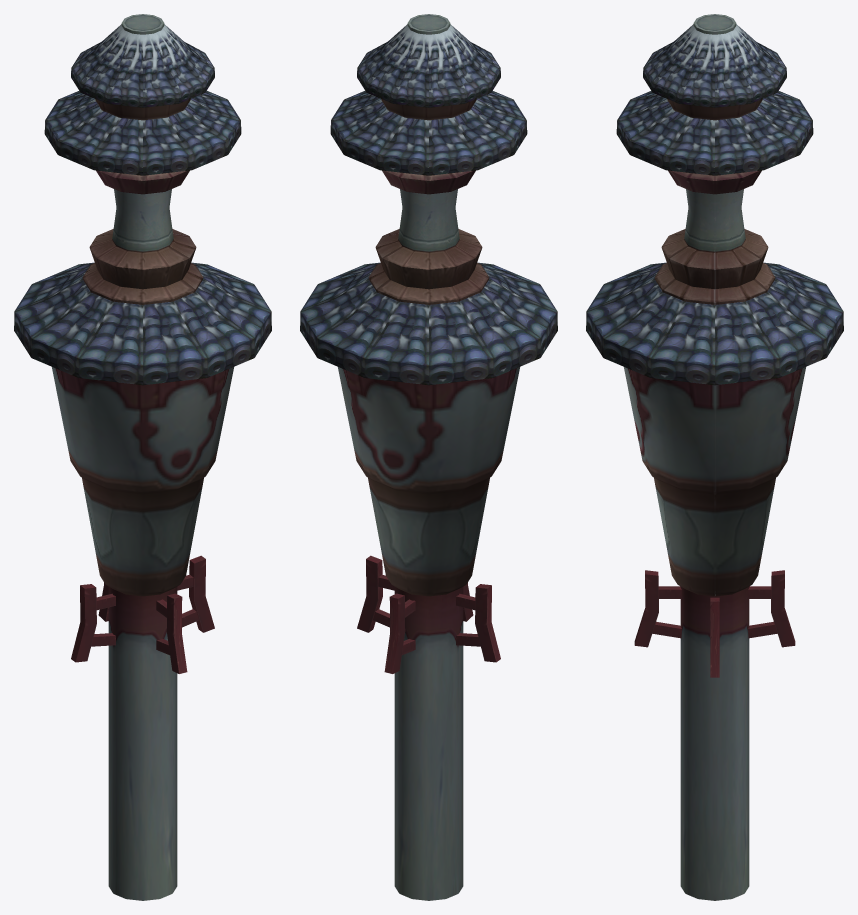
3 renders of one model, left to right at view 1: azimuth 30°, elevation 25°; view 2: azimuth 150°, elevation 25°; view 3: azimuth 270°, elevation 25°, orthographic.
Visible parts, largest first — view 1: MB0002_16; view 2: MB0002_16; view 3: MB0002_16.
Boxes of the visible parts, x1=… form: MB0002_16: x1=14, y1=14, x2=271, y2=900; MB0002_16: x1=300, y1=14, x2=557, y2=900; MB0002_16: x1=586, y1=14, x2=843, y2=900.
Size of the model in its own units: 8.52 by 31.46 by 8.52.
